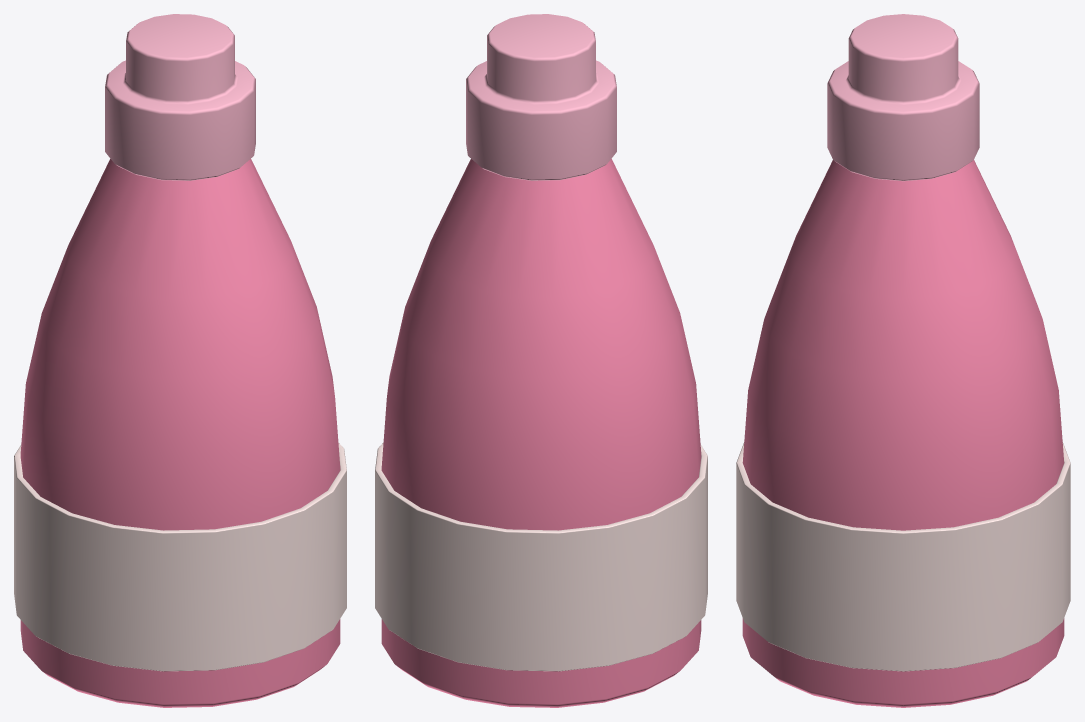
Rendered from Public_13_Bottle_1.glb.
The picture shows the model from 3 angles, left to right: view 1: azimuth 30°, elevation 25°; view 2: azimuth 150°, elevation 25°; view 3: azimuth 270°, elevation 25°; orthographic projection.
Parts seen in each view (by area): view 1: Public_13_Bottle_1; view 2: Public_13_Bottle_1; view 3: Public_13_Bottle_1.
Part boxes in pixels (x1=…): Public_13_Bottle_1: x1=14, y1=14, x2=346, y2=707; Public_13_Bottle_1: x1=375, y1=14, x2=707, y2=707; Public_13_Bottle_1: x1=736, y1=14, x2=1070, y2=707.
Bounding box in the file's own units: 0.3993 × 0.8001 × 0.3993.
1 material, 1 textured.
